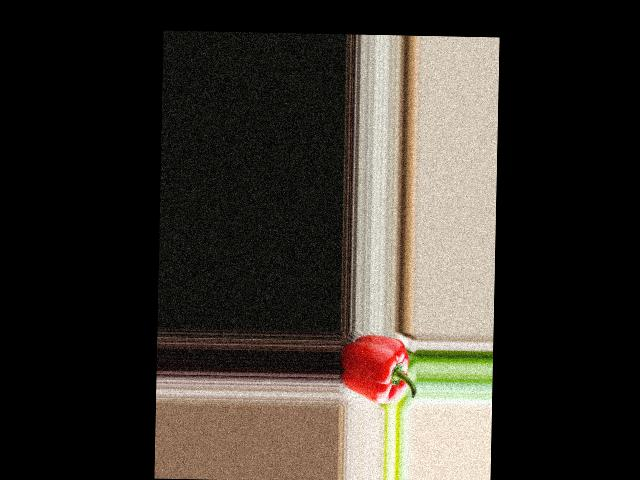bell_pepper: (337, 336, 415, 406)
